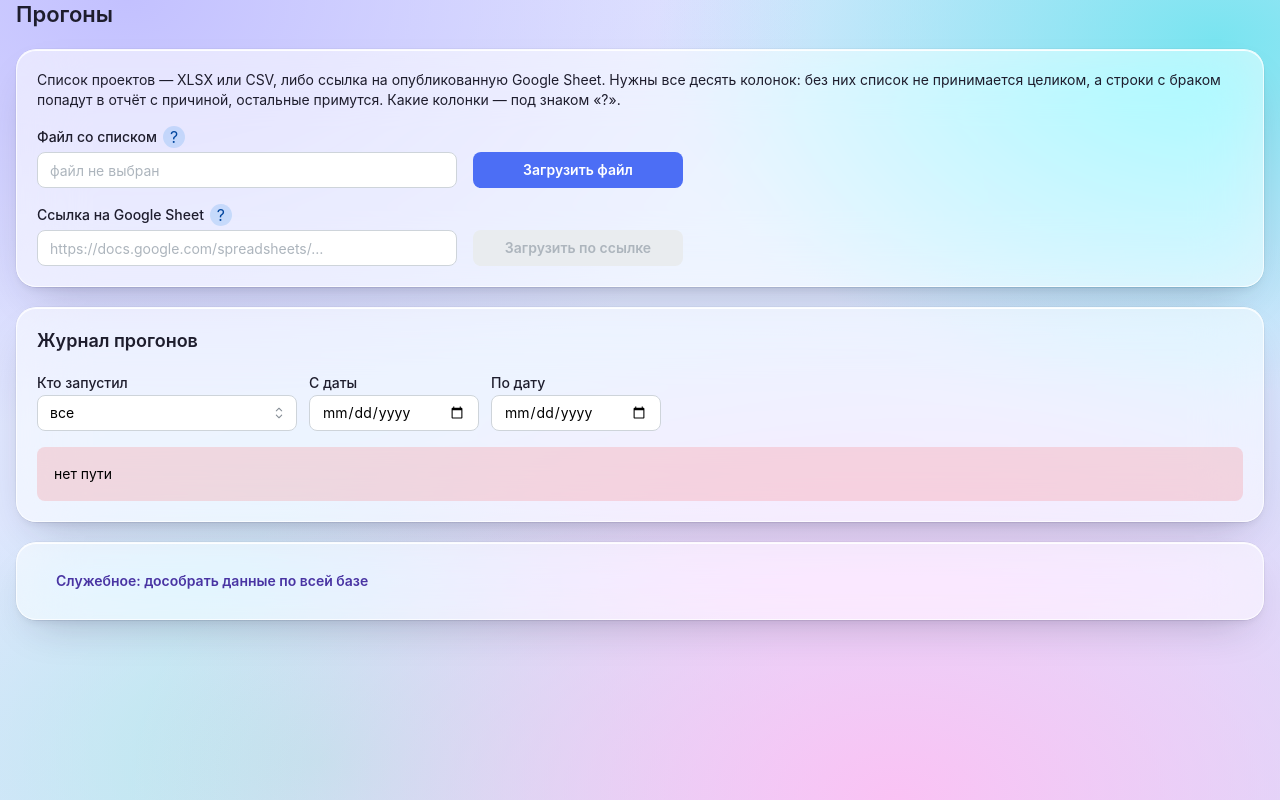
экран загрузки: смета и запуск › E8: смета видна числами и разбивкой
Click the button "Служебное: дособрать данные по всей базе" at (212, 581), box [37, 563, 387, 599]
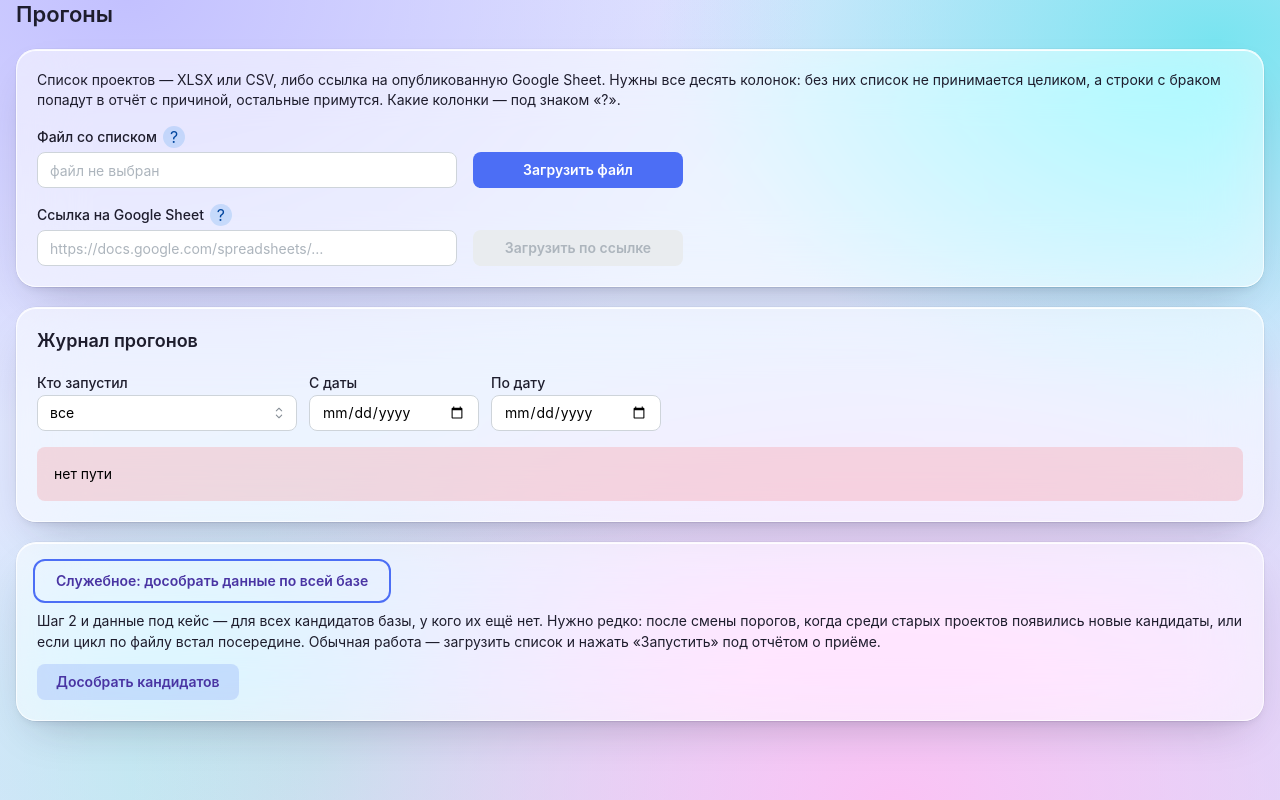
Click the button "Дособрать кандидатов" at (138, 682), box [37, 664, 239, 700]
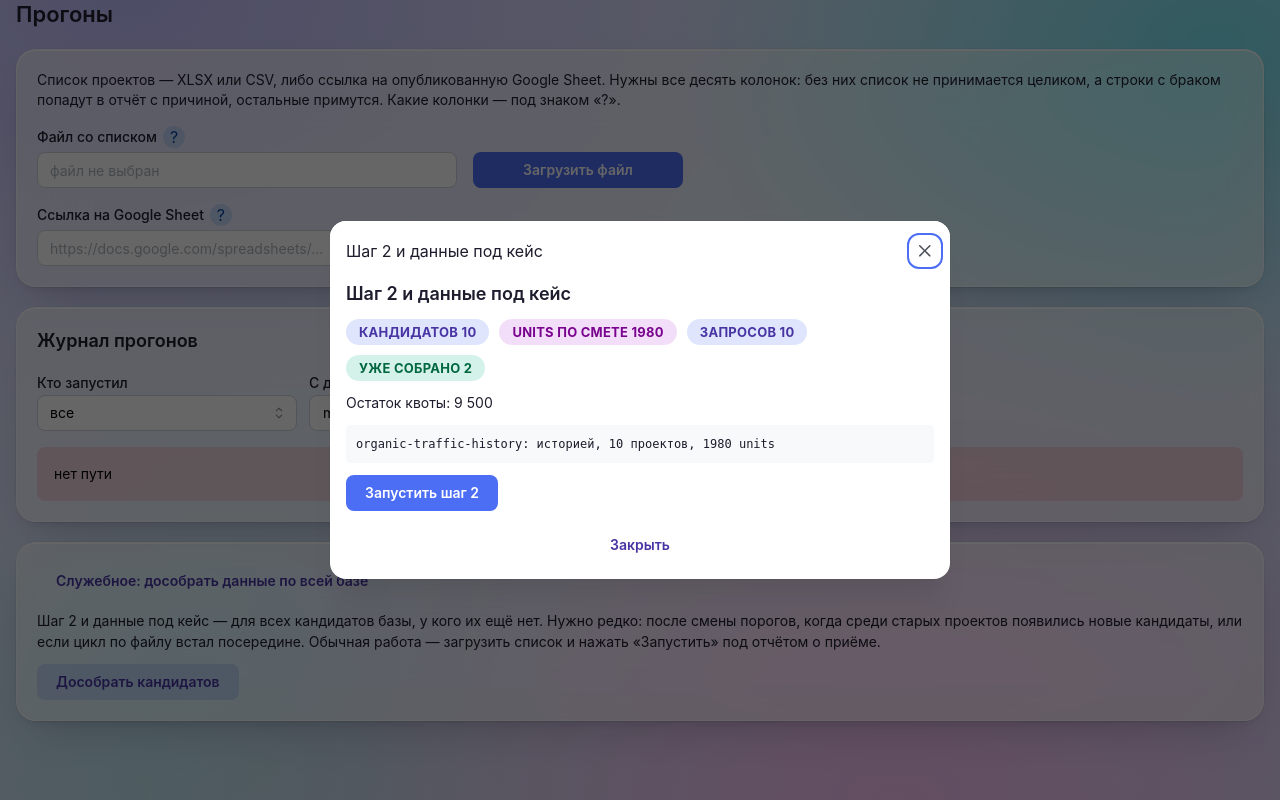
Result: the dialog is shown at [330, 220, 950, 580]
Result: the text "units по смете 1980" is shown at [512, 320, 664, 344]
Result: the text "Остаток квоты: 9 500" is shown at [346, 394, 493, 411]
